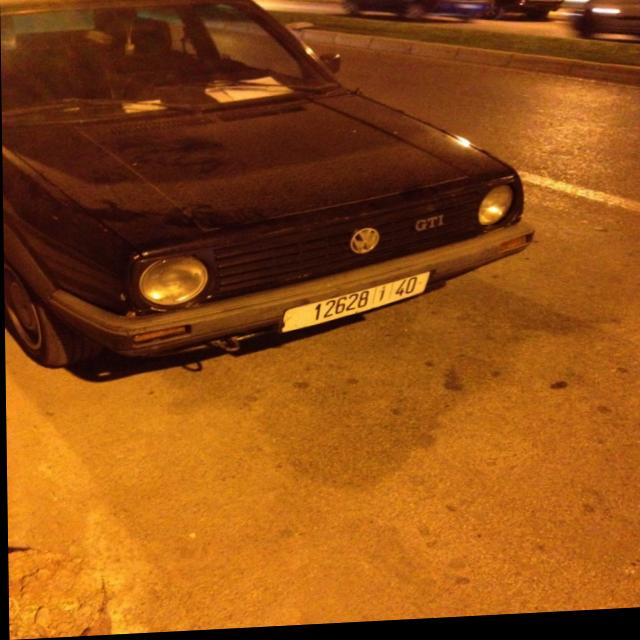License-Plate: (281, 277, 428, 335)
